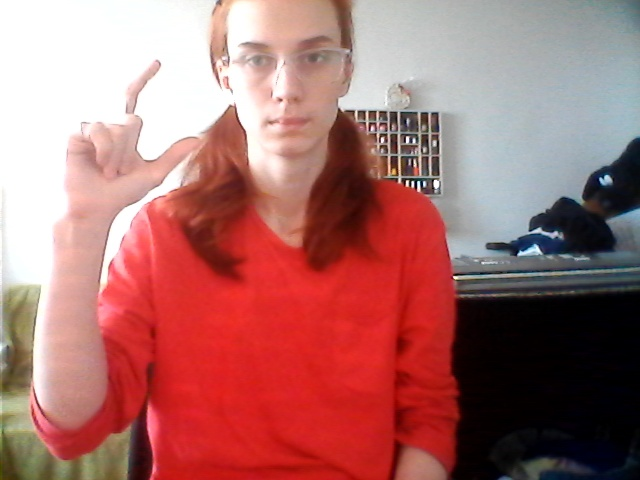c: (56, 58, 207, 209)
